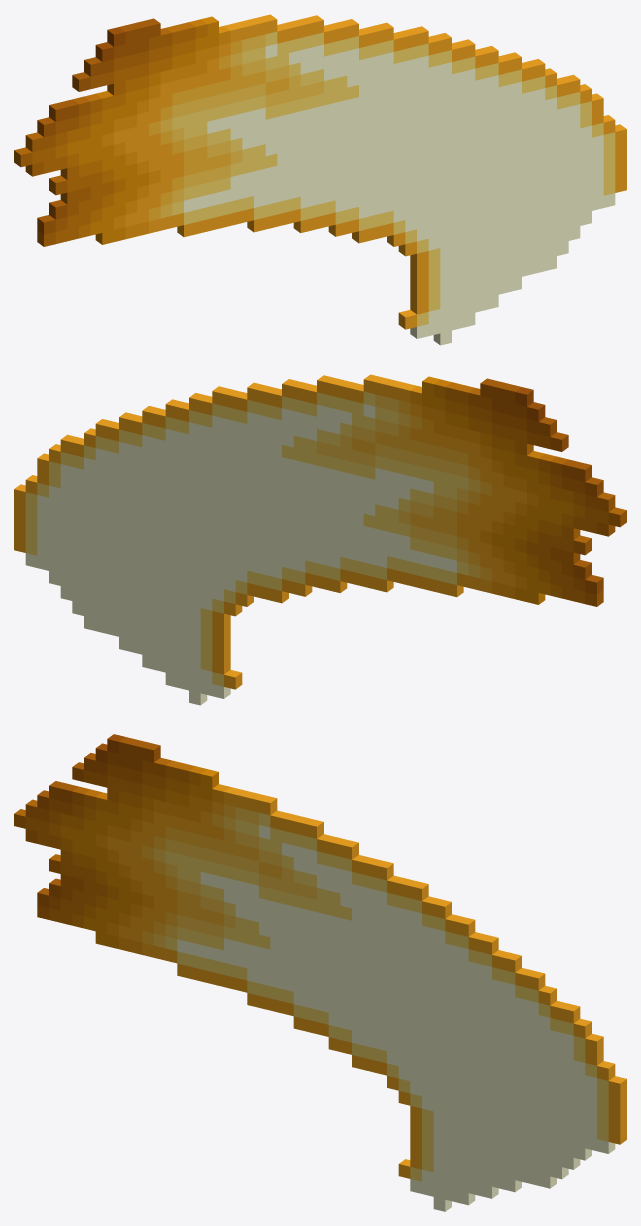
File: Fight_032_2_05_fx.obj
3 views of the same model, one above another, from view 1: azimuth 30°, elevation 25°; view 2: azimuth 150°, elevation 25°; view 3: azimuth 330°, elevation 25° (orthographic).
Bounding box in the file's own units: 5.2 × 3.2 × 0.1.
1 material, 1 textured.
